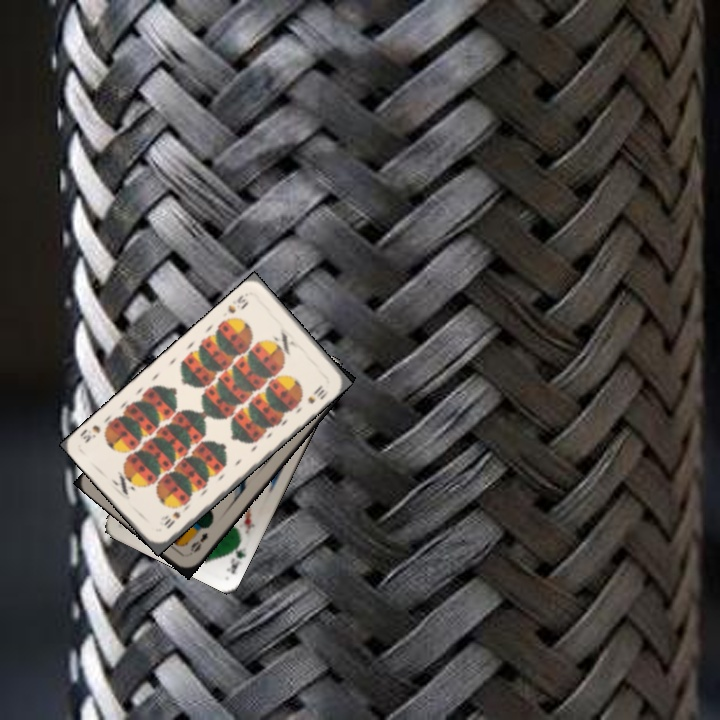EO: (186, 528, 211, 556)
GK: (222, 538, 249, 577)
S10: (224, 291, 251, 316), (160, 507, 183, 531)
